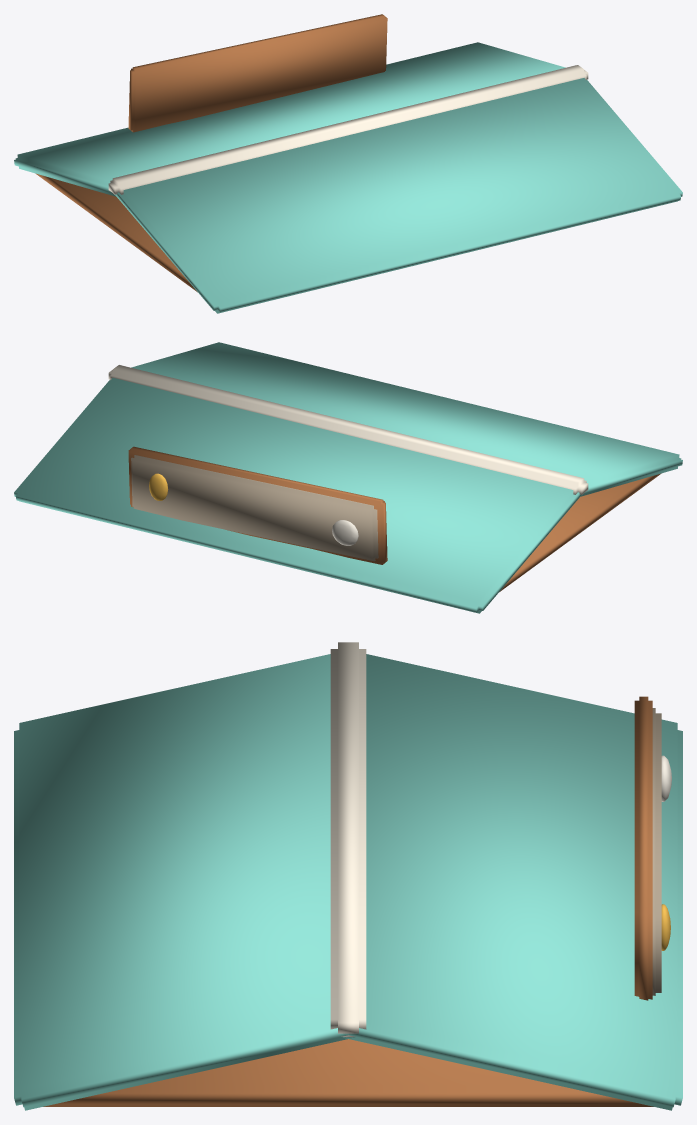
File: PavilionBay_RoofFade.fbx
3 views of the same model, one above another, from view 1: azimuth 30°, elevation 25°; view 2: azimuth 150°, elevation 25°; view 3: azimuth 270°, elevation 25° (orthographic). The views are drawn at different scales.
Visible parts, largest first — view 1: PavilionBay_RoofFade; view 2: PavilionBay_RoofFade; view 3: PavilionBay_RoofFade.
Boxes of the visible parts, x1,y1,x2,y2 form: PavilionBay_RoofFade: (14, 14, 682, 313); PavilionBay_RoofFade: (14, 342, 682, 613); PavilionBay_RoofFade: (14, 642, 682, 1110).
Bounding box in the file's own units: 5.98 × 1.01 × 4.49.
